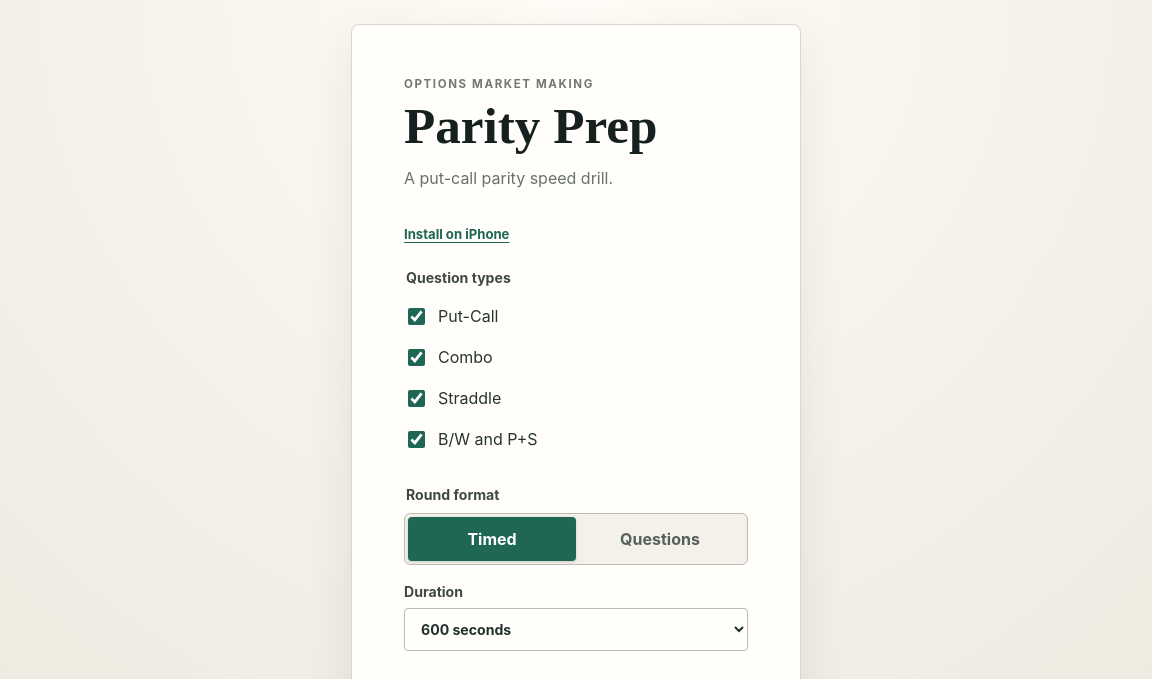
Test: setup › requires at least one selected question type
Click the checkbox labelled "Put-Call". click: (416, 316)
box: [408, 308, 425, 324]
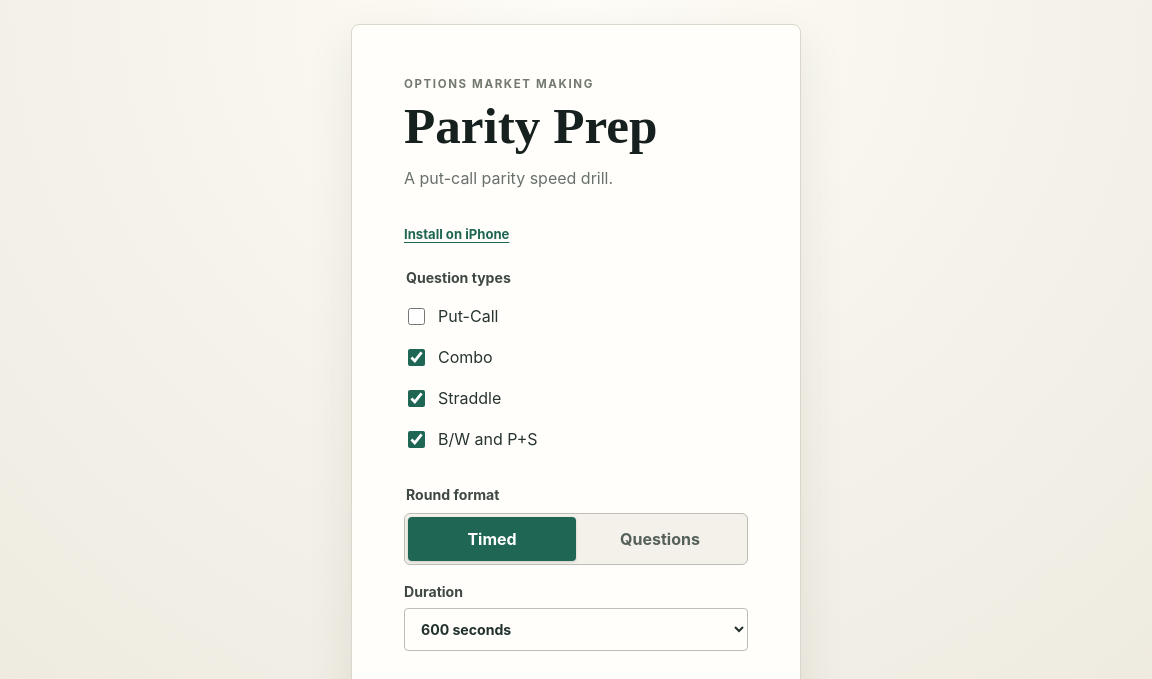
Click the checkbox labelled "Combo". click: (416, 357)
box: [408, 348, 425, 366]
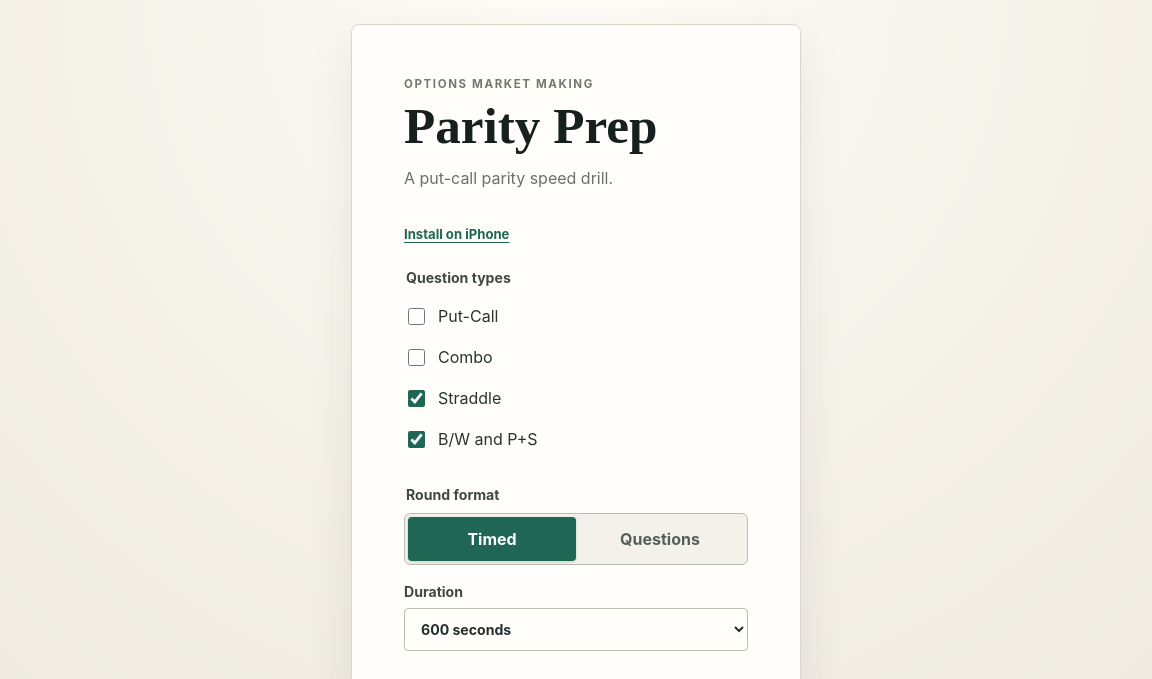
Click the checkbox labelled "Straddle". click: (416, 398)
box: [408, 390, 425, 406]
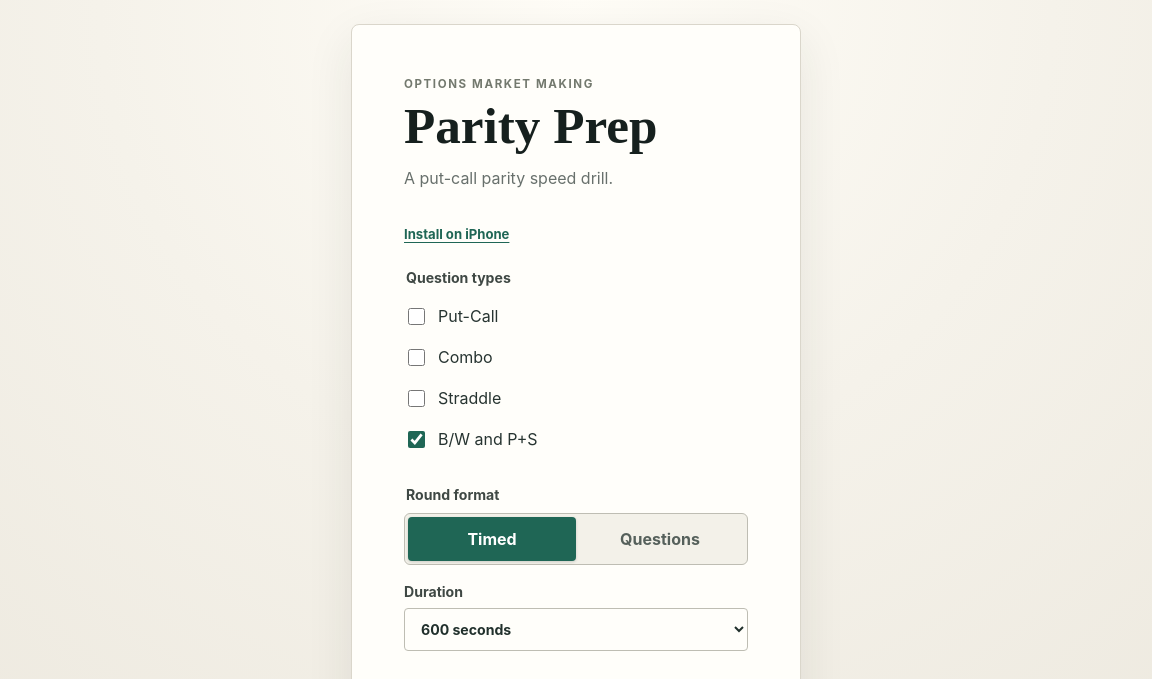
Click the checkbox labelled "B/W and P+S". click: (416, 439)
box: [408, 430, 425, 448]
(page scrolled)
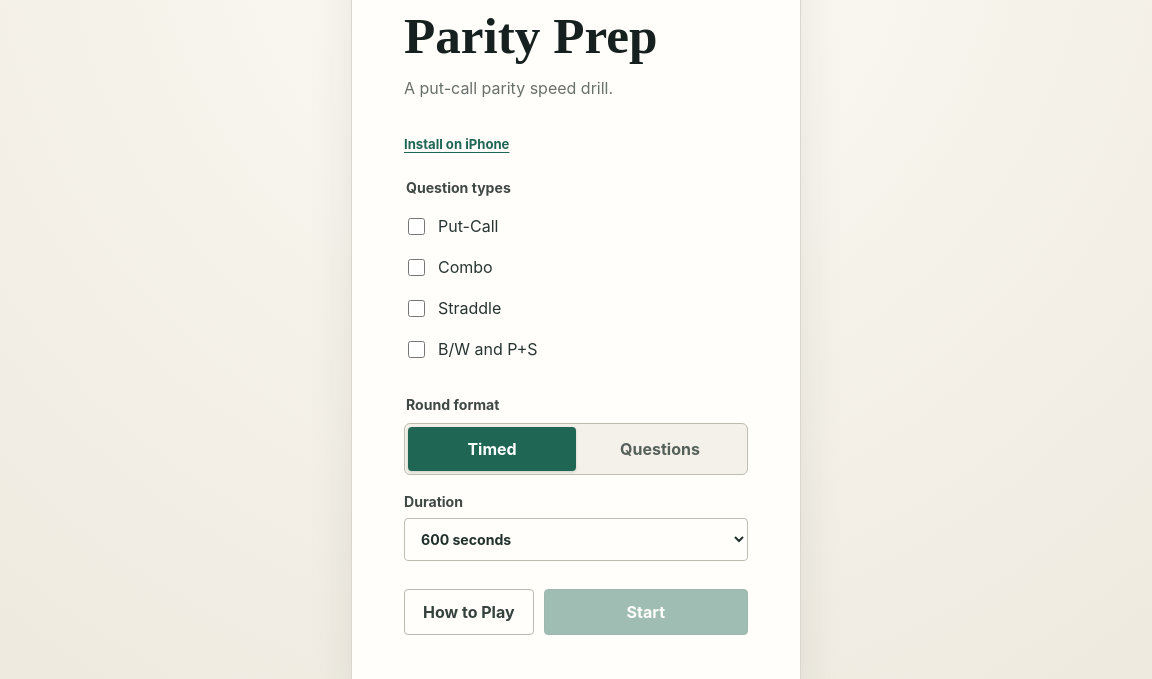
Now the button "Start" is disabled, box [544, 588, 748, 634]
